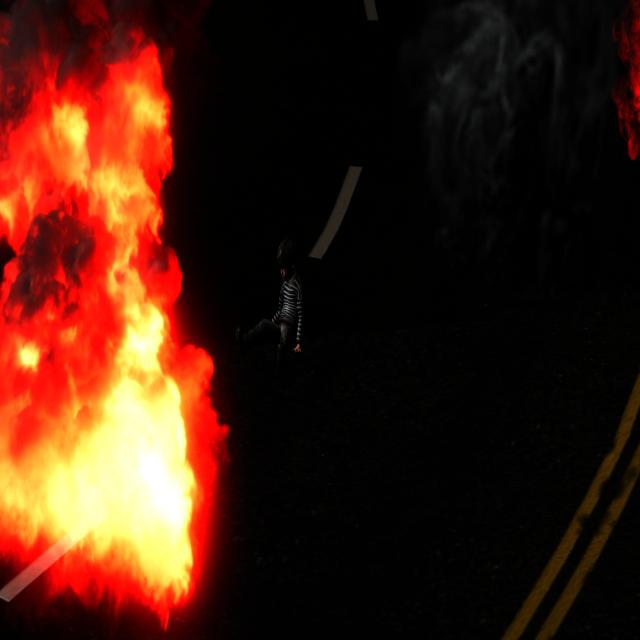Human: (228, 231, 306, 376)
